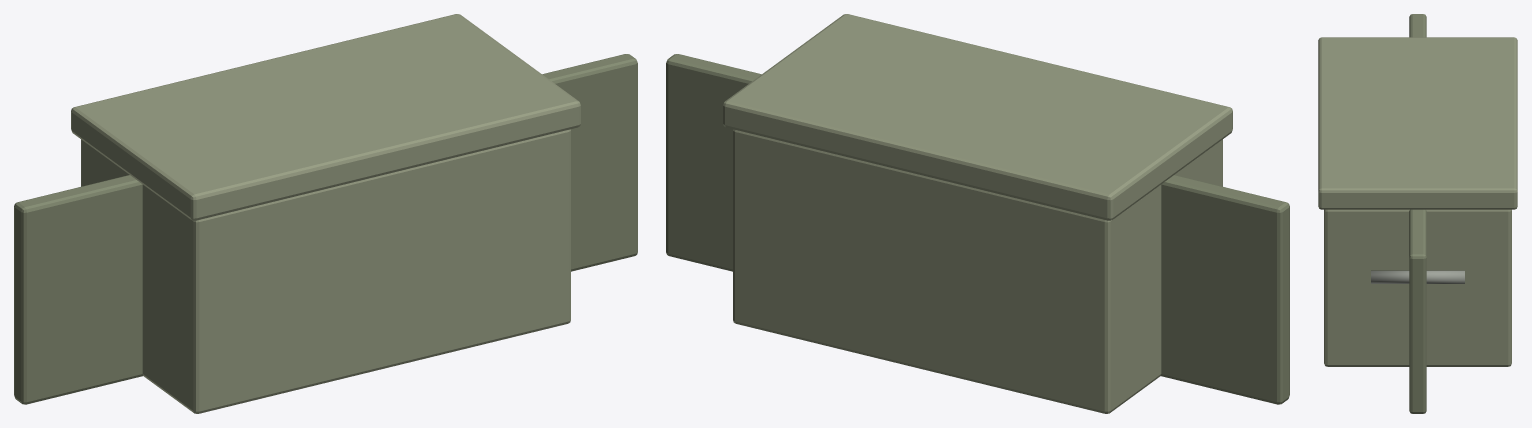
File: ammo_crate.glb
3 views of the same model, side by side, from view 1: azimuth 30°, elevation 25°; view 2: azimuth 150°, elevation 25°; view 3: azimuth 270°, elevation 25° (orthographic). The views are drawn at different scales.
Visible parts, largest first — view 1: crate_body, crate_lid, crate_rib1, crate_rib2; view 2: crate_body, crate_lid, crate_rib1, crate_rib2; view 3: crate_lid, crate_body, crate_rib2, crate_handle, crate_rib1.
Boxes of the visible parts, x1,y1,x2,y2 form: crate_body: (81,129,570,413); crate_lid: (71,14,580,220); crate_rib1: (14,175,142,404); crate_rib2: (542,54,637,271); crate_body: (733,129,1222,413); crate_lid: (723,14,1232,220); crate_rib1: (1161,175,1289,404); crate_rib2: (666,54,761,271); crate_lid: (1318,37,1517,209); crate_body: (1324,209,1511,366); crate_rib2: (1409,209,1426,413); crate_handle: (1371,270,1464,283); crate_rib1: (1409,14,1426,37).
Bounding box in the file's own units: 0.98 × 0.34 × 0.34.
